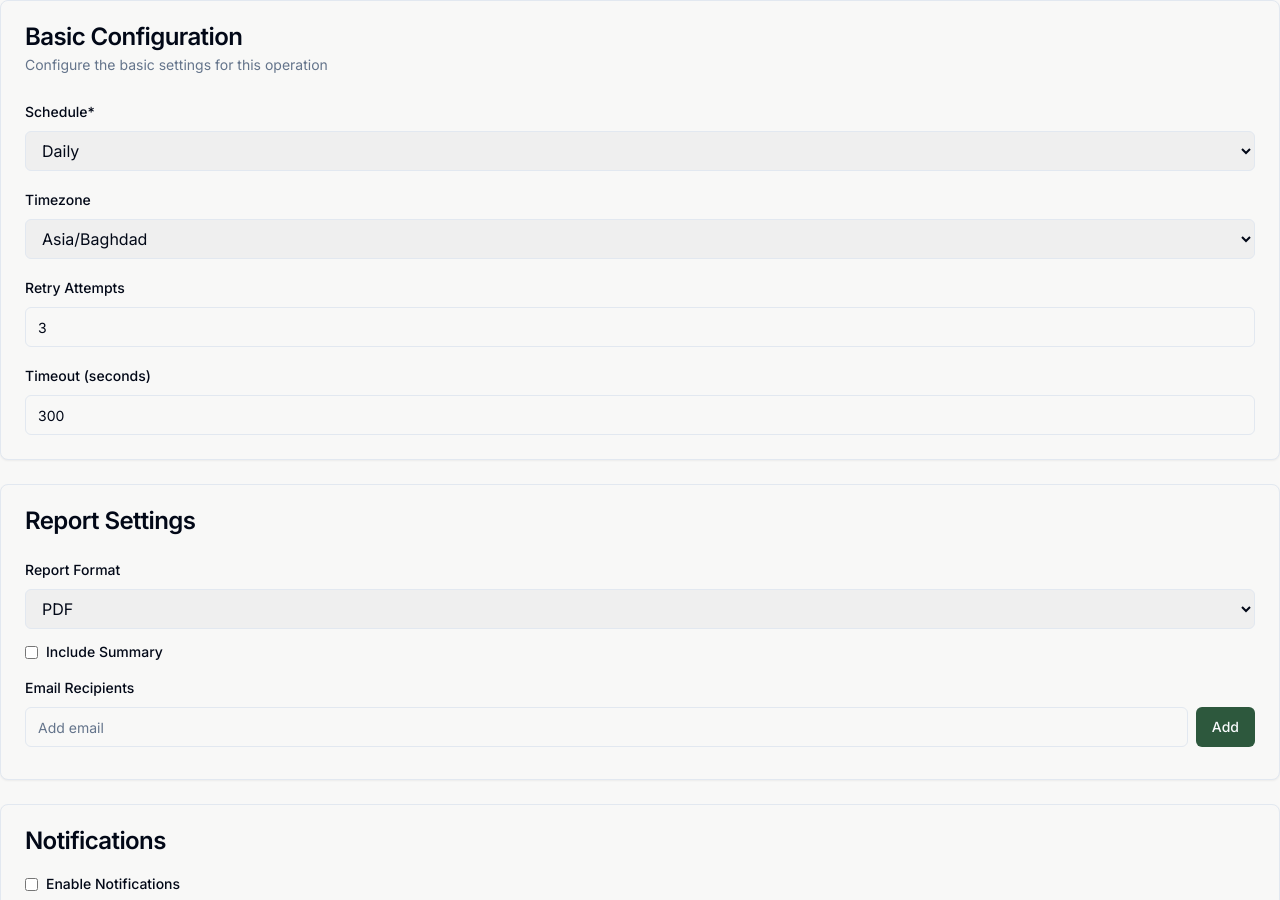
Scenario: OperationConfiguration › User Interactions › handles schedule type changes
Select "Hourly" in the dropdown labelled "Schedule*" at (640, 151), box [25,131,1255,171]
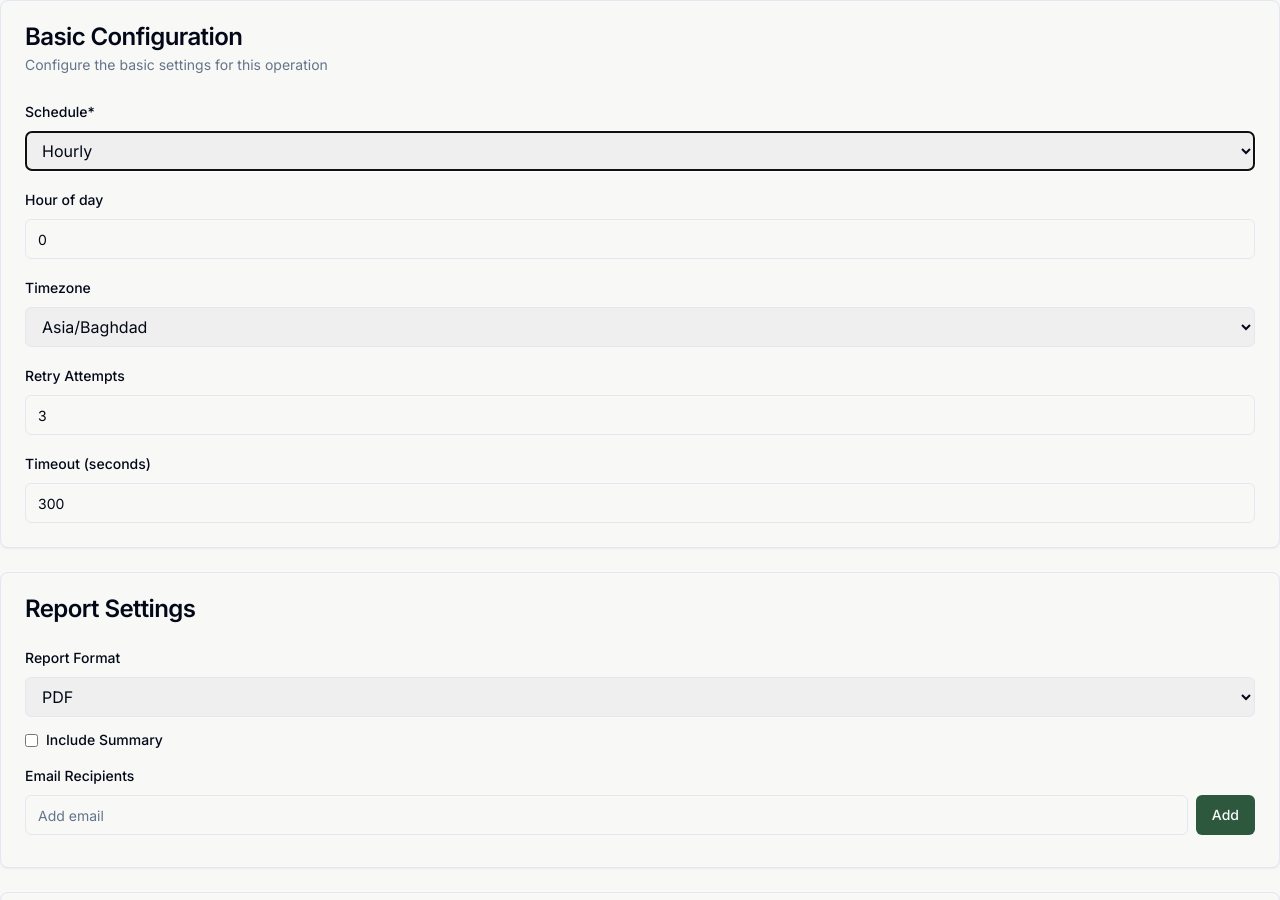
expect the number field labelled "Hour of day" is shown: met, box [25,219,1255,259]
